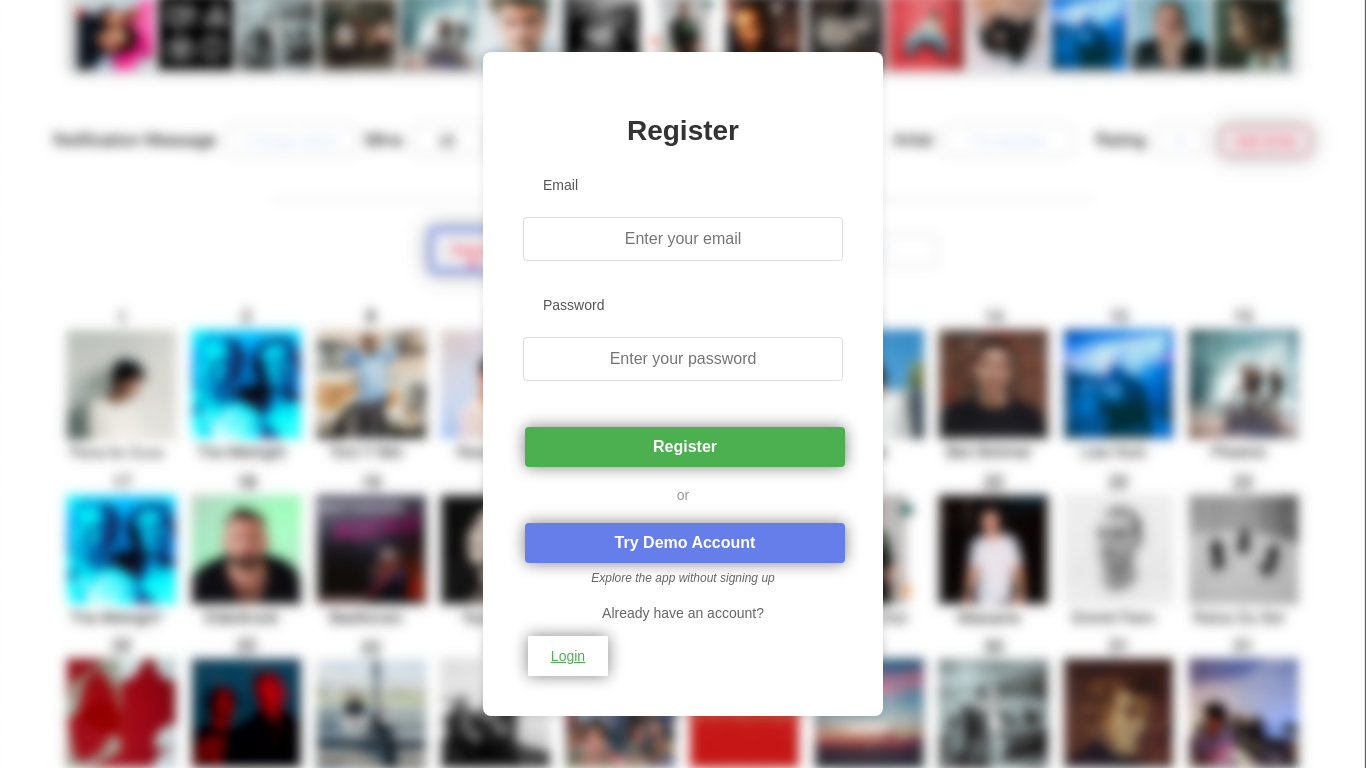
Test case: Auth › falls back to a generic error when the server sends none
Type "a@b.com" into the field with placeholder "Enter your email" at (683, 239), box 523,217 -> 843,261
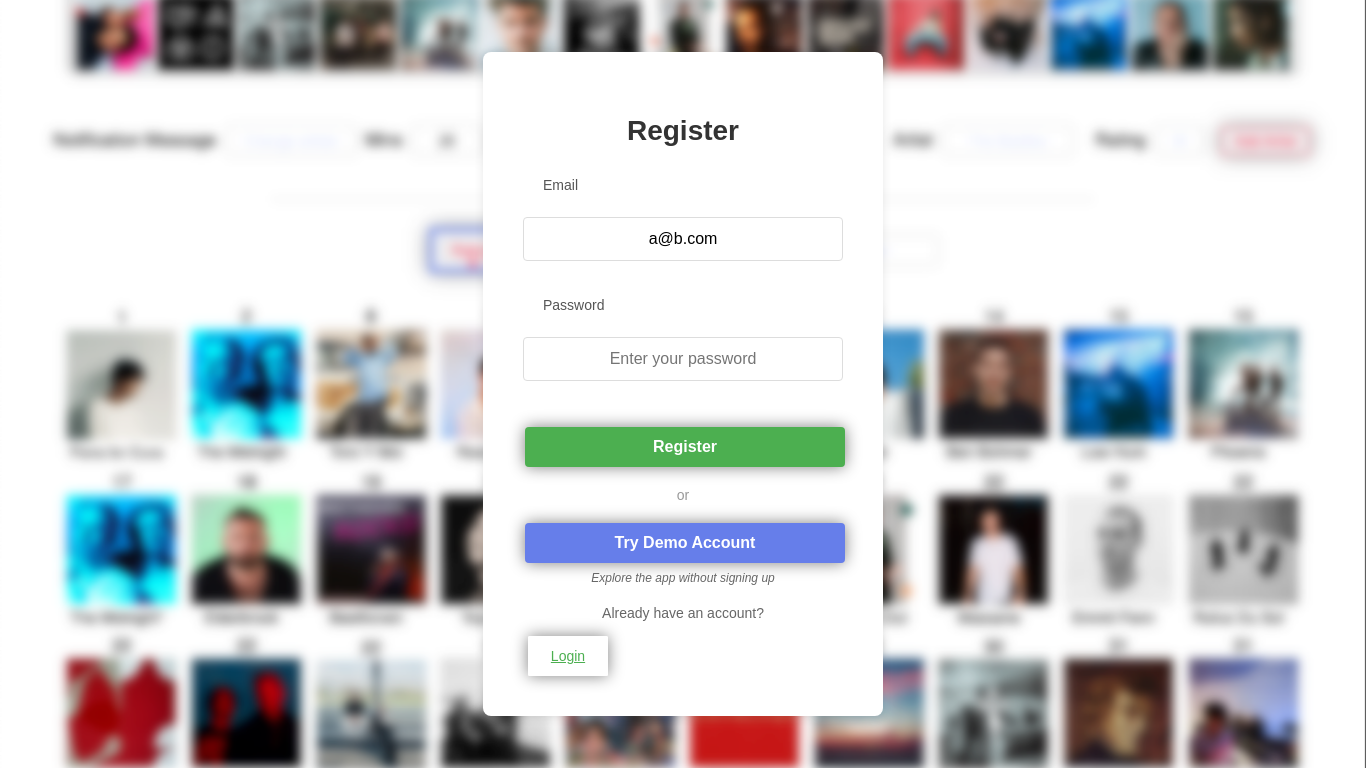
Type "secret1" into the password field with placeholder "Enter your password" at (683, 359), box 523,337 -> 843,381
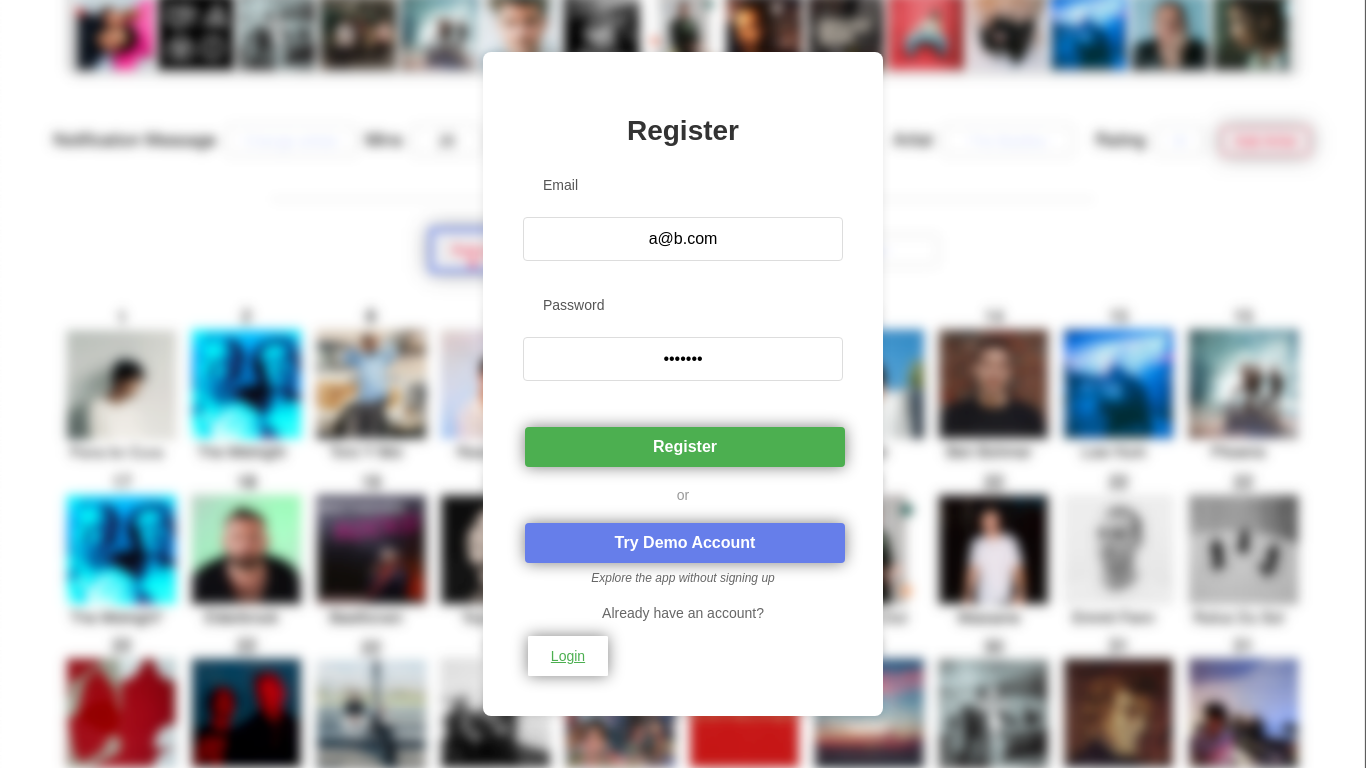
Submit the form with placeholder "Enter your email", box 523,177 -> 843,467
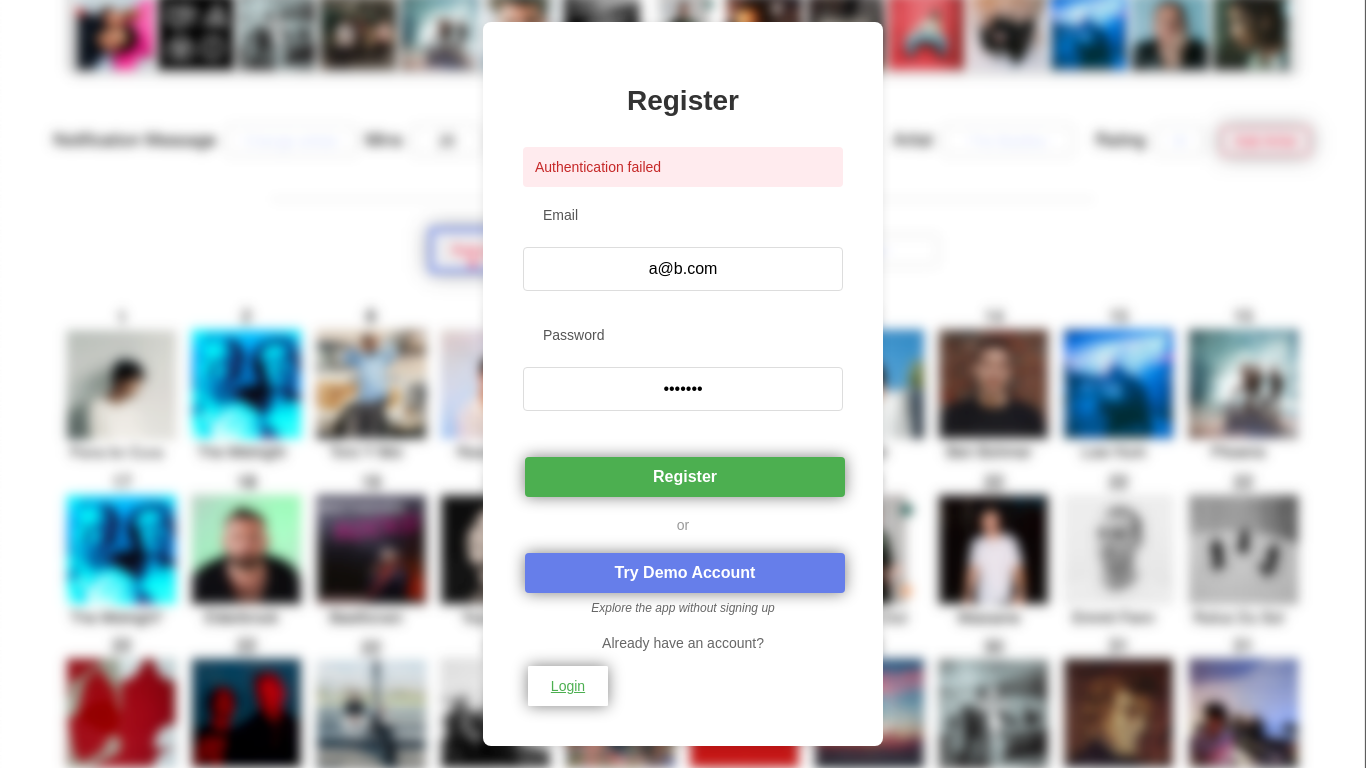
Expected: the text "Authentication failed" is shown, 523,147 -> 843,187
